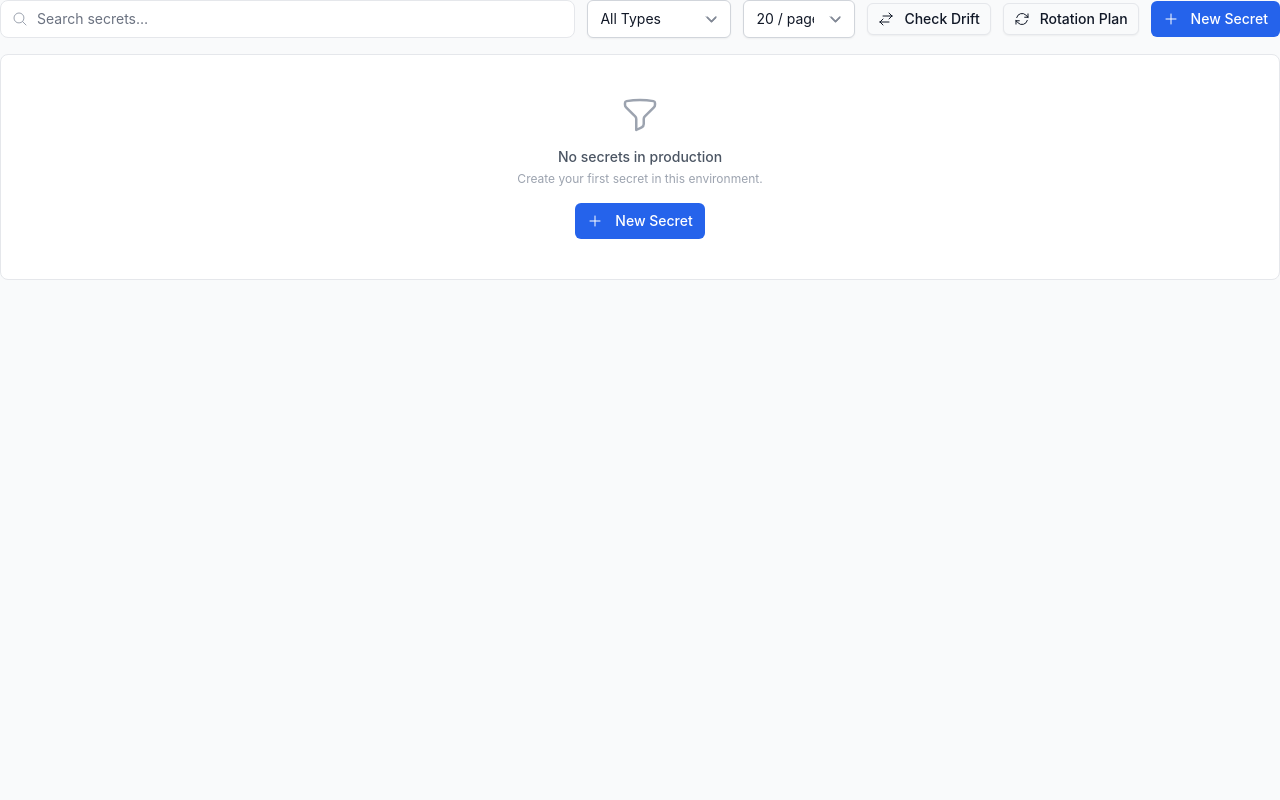
Scenario: ProjectSecretsTab — create modal extras › shows the create error as a message and reflects the pending "Creating…" state
Step 1. Click the 1st button "New Secret" → x=1215, y=19, box top-left (1151, 1), bottom-right (1279, 37)
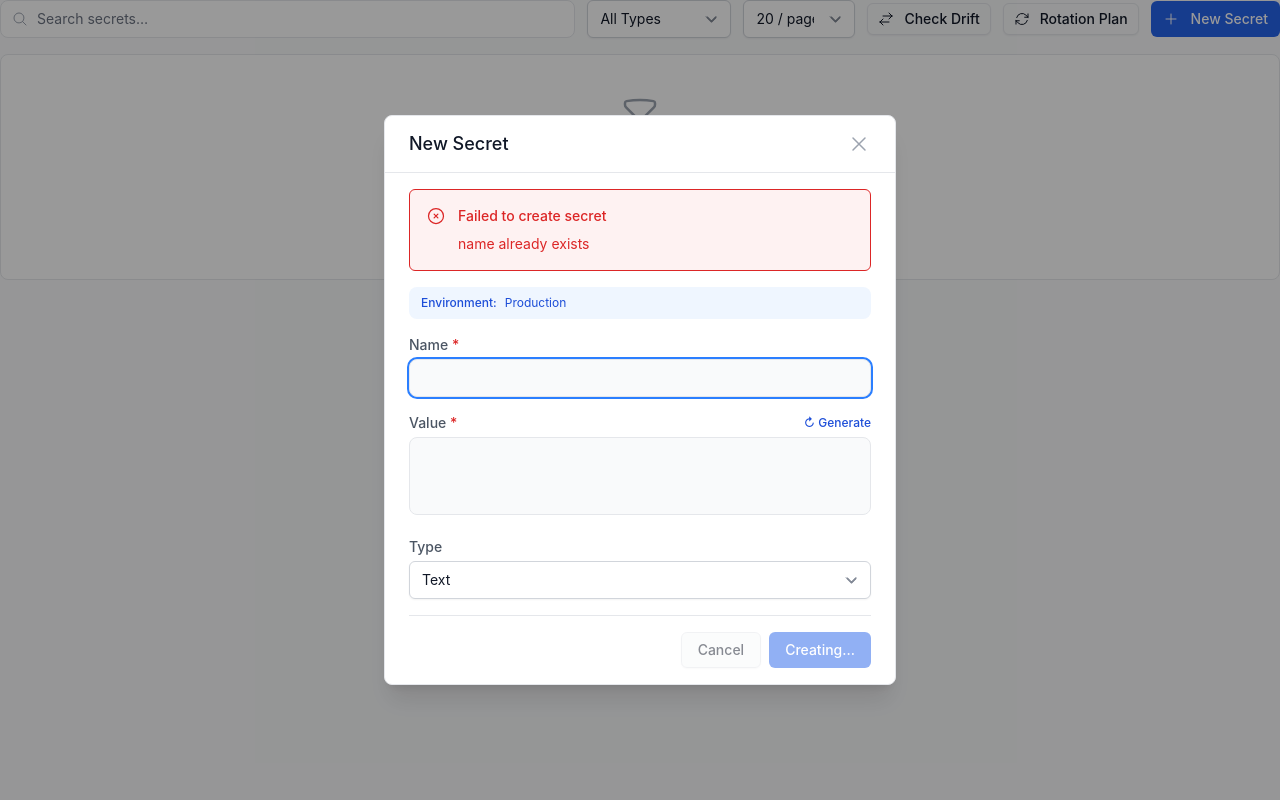
Now the heading "Failed to create secret" is shown, box top-left (458, 207), bottom-right (606, 224)
Now the text "name already exists" is shown, box top-left (458, 235), bottom-right (590, 252)
Now the button "Creating…" is shown, box top-left (769, 632), bottom-right (871, 668)
